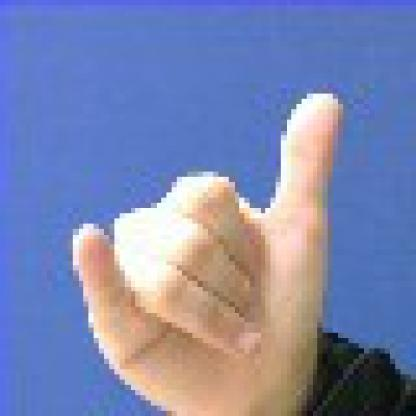six: (58, 78, 374, 411)
